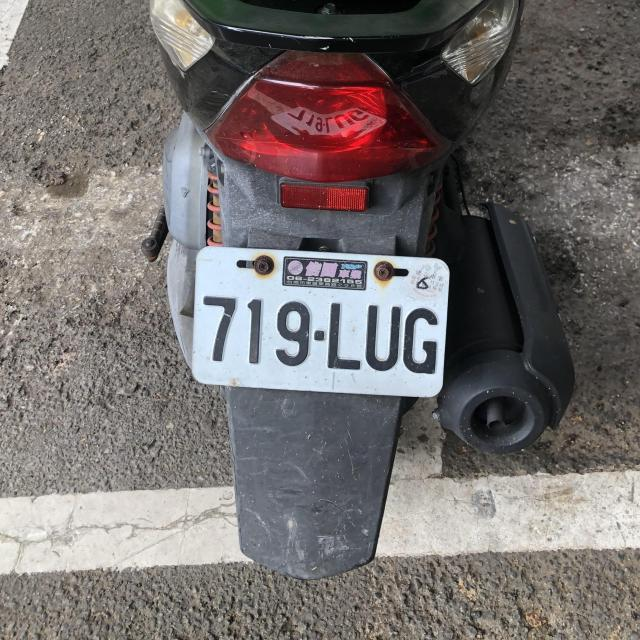W: (188, 246, 450, 395)
